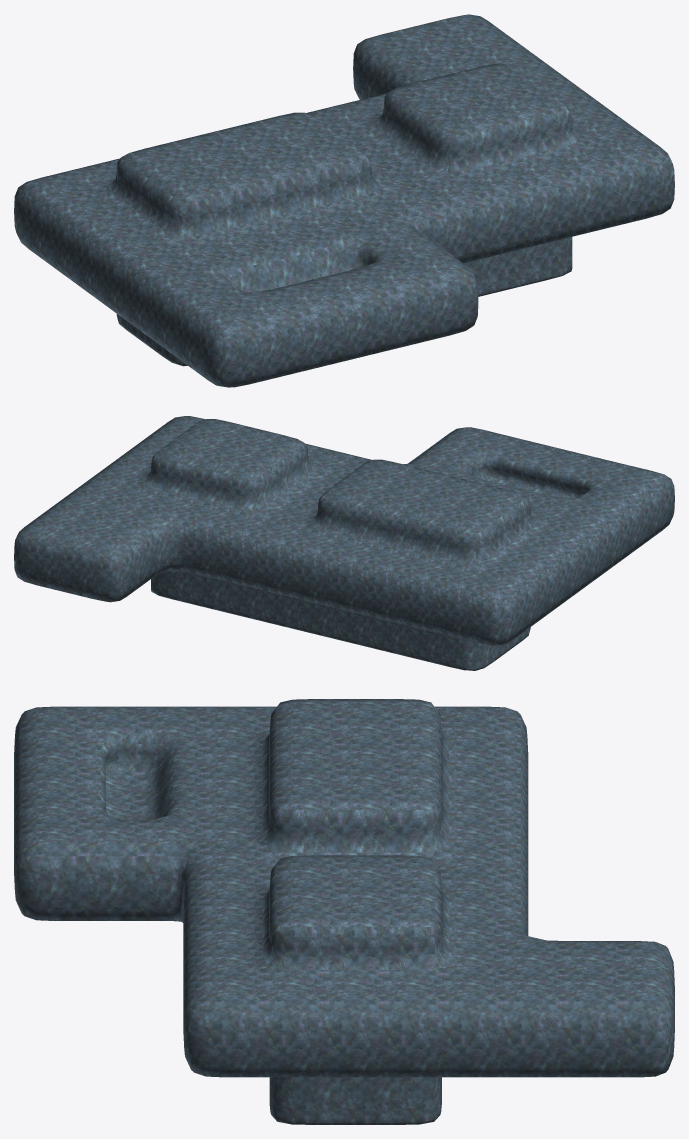
The model's file is Greeble4.fbx.
The picture shows the model from 3 angles, top to bottom: view 1: azimuth 30°, elevation 25°; view 2: azimuth 150°, elevation 25°; view 3: azimuth 270°, elevation 25°; orthographic projection. The views are drawn at different scales.
Visible parts, largest first — view 1: Cube; view 2: Cube; view 3: Cube.
Boxes of the visible parts, x1=… form: Cube: x1=14, y1=14, x2=674, y2=387; Cube: x1=14, y1=416, x2=674, y2=670; Cube: x1=14, y1=699, x2=674, y2=1124.
Bounding box in the file's own units: 525 × 158 × 469.
